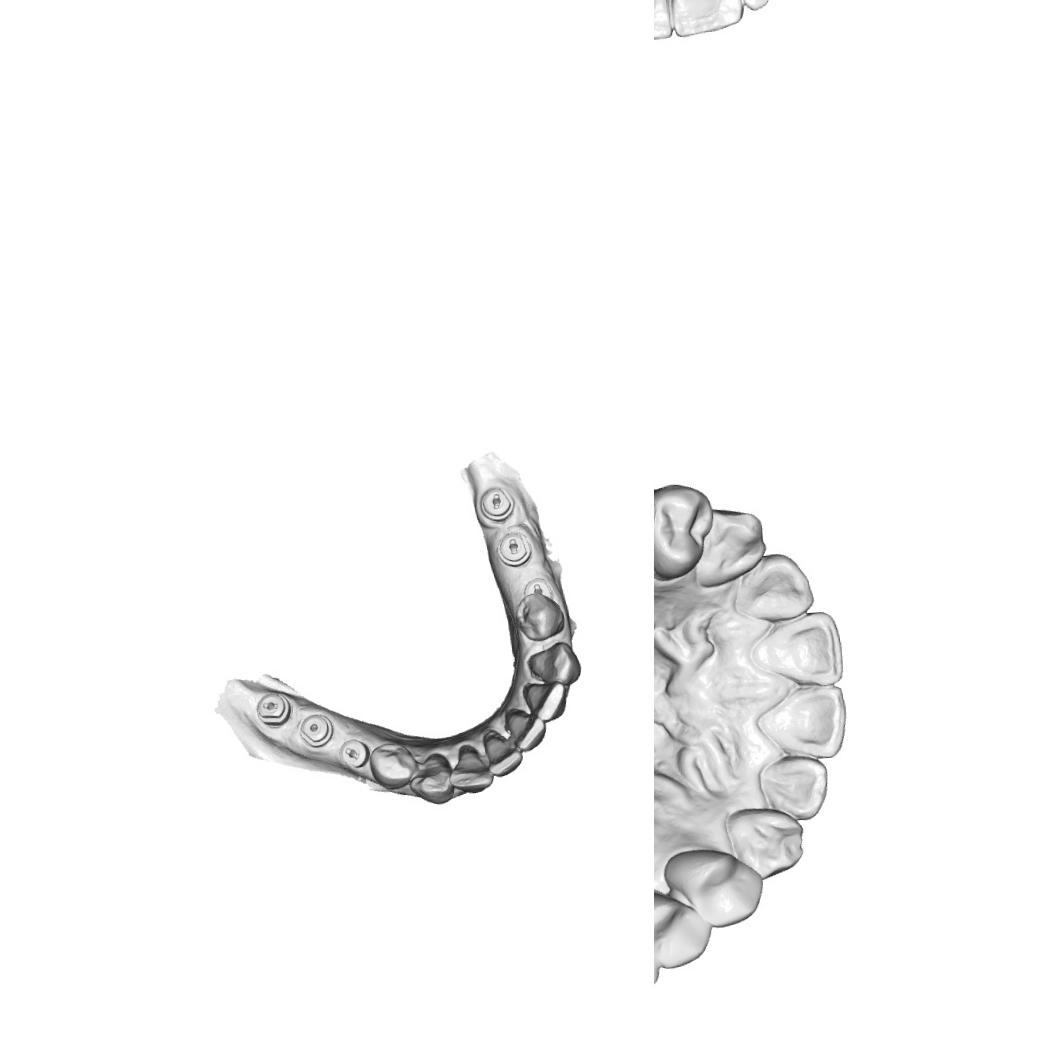canine: (724, 796, 806, 882), (691, 503, 768, 591), (523, 640, 584, 688), (405, 750, 456, 806)
implant: (297, 710, 334, 748)
implant_minus: (492, 526, 534, 569), (476, 483, 516, 522), (253, 688, 292, 728), (337, 735, 371, 770), (520, 574, 554, 600)
incisor: (751, 679, 851, 764), (747, 607, 846, 688), (734, 546, 820, 628), (758, 751, 832, 823), (663, 0, 750, 39), (446, 746, 494, 795), (501, 707, 548, 753), (480, 731, 524, 778), (521, 680, 568, 724)
premolar: (663, 839, 768, 931), (654, 479, 718, 583), (654, 878, 711, 975), (512, 589, 568, 643), (366, 737, 418, 791)
